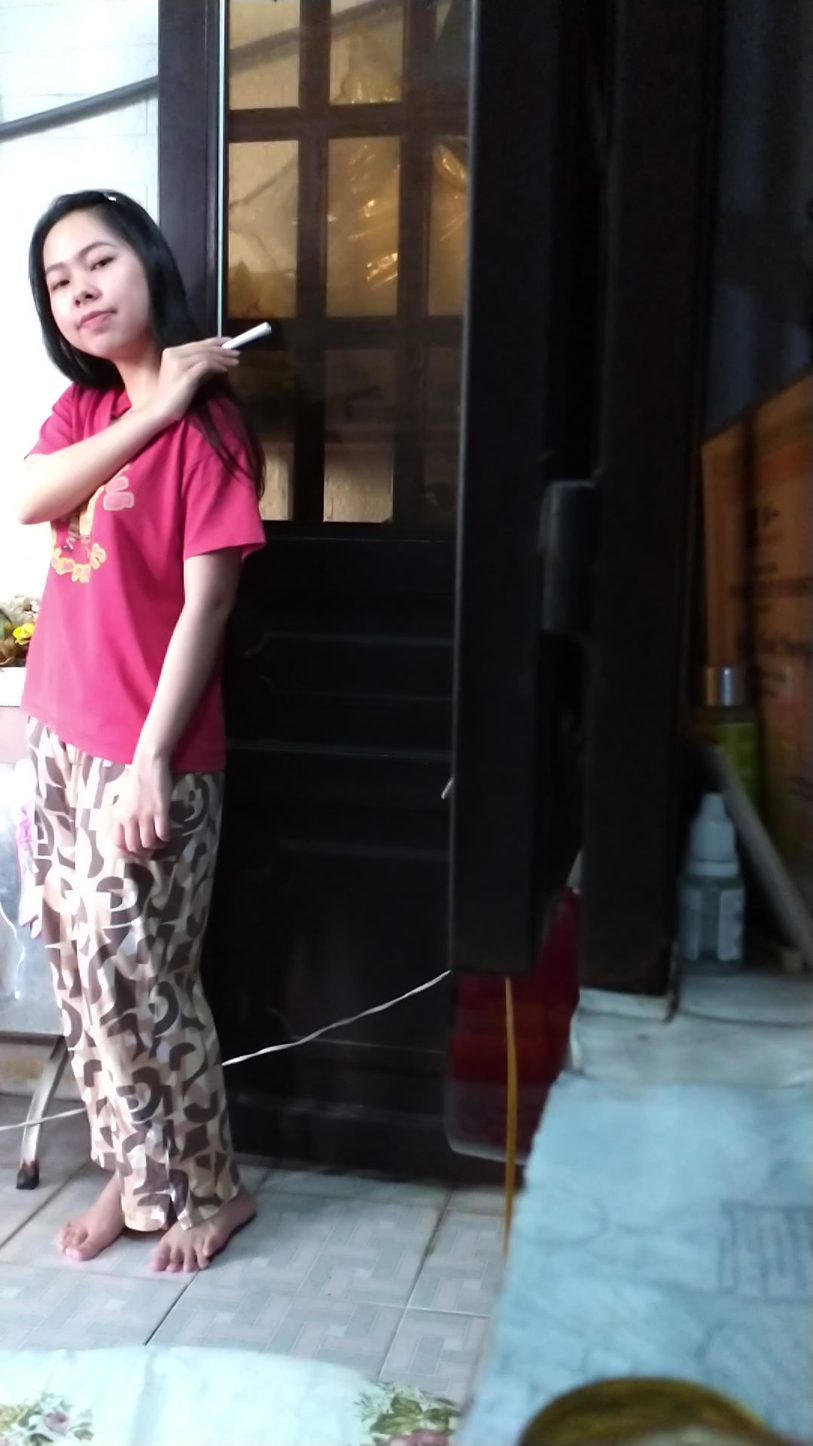cigarette: (221, 317, 279, 355)
person: (17, 159, 273, 1283)
